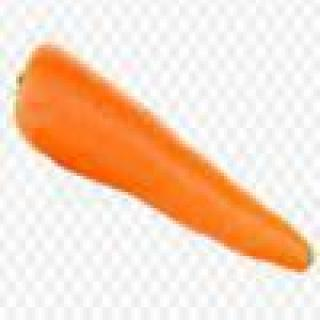Wortel: (1, 33, 318, 289)
